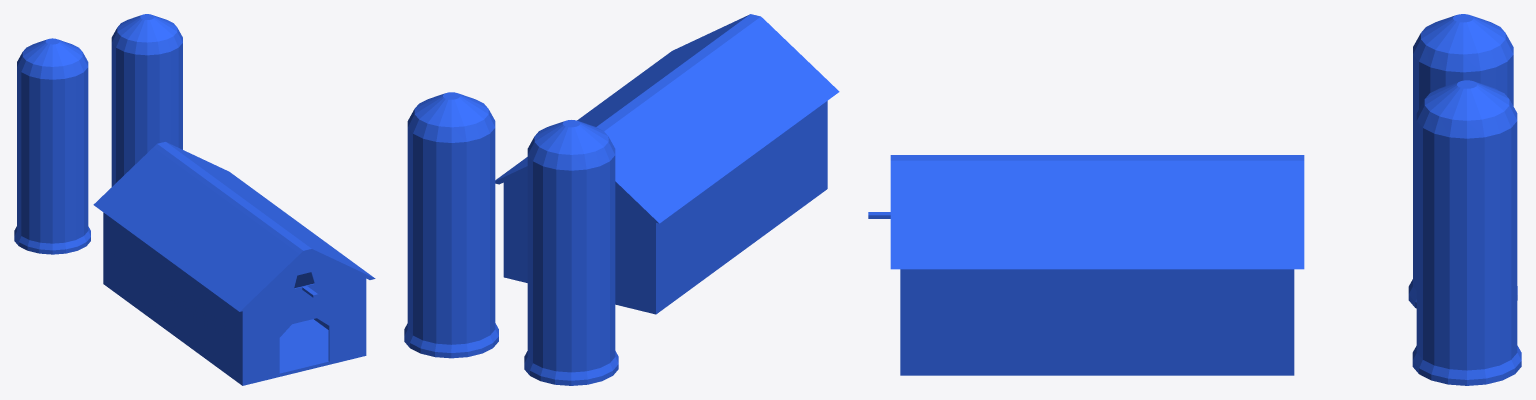
The model's file is Almacen 1.FBX.
The picture shows the model from 3 angles, left to right: view 1: azimuth 30°, elevation 25°; view 2: azimuth 150°, elevation 25°; view 3: azimuth 270°, elevation 25°; orthographic projection. The views are drawn at different scales.
Visible parts, largest first — view 1: Almacen 1; view 2: Almacen 1; view 3: Almacen 1.
Part boxes in pixels (x1,y1,x2,y2): Almacen 1: [14, 14, 375, 385]; Almacen 1: [404, 14, 839, 385]; Almacen 1: [868, 14, 1521, 385].
Bounding box in the file's own units: 264 × 304 × 646.
